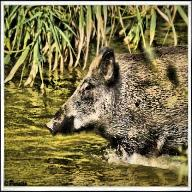boar: (58, 41, 192, 152)
